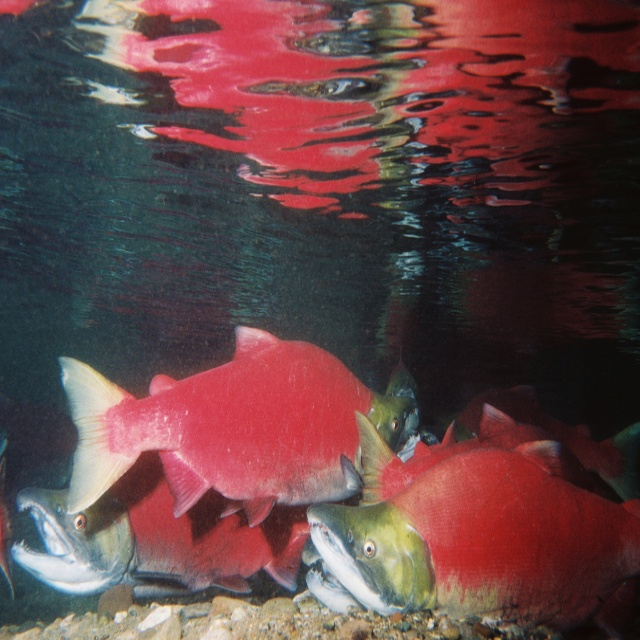Goldfish: (321, 405, 596, 615)
